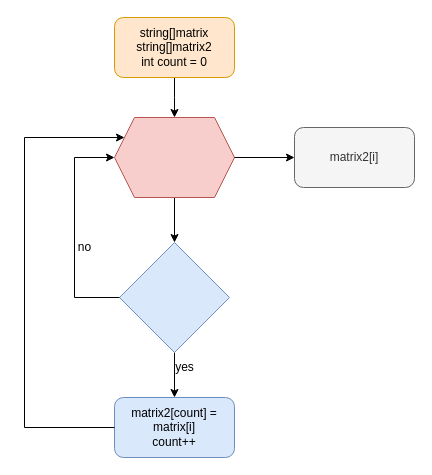
Some shapes in this 432 by 475 pixel diagram are drawn without their labels. The shapes that lost their labels are listed below. From the top down, each one's centre as x and y in pixels, then its label:
At pixel 174 157: "int i = 0; i<matrix.length i++".
At pixel 174 297: "matrix[i]length<=3".
